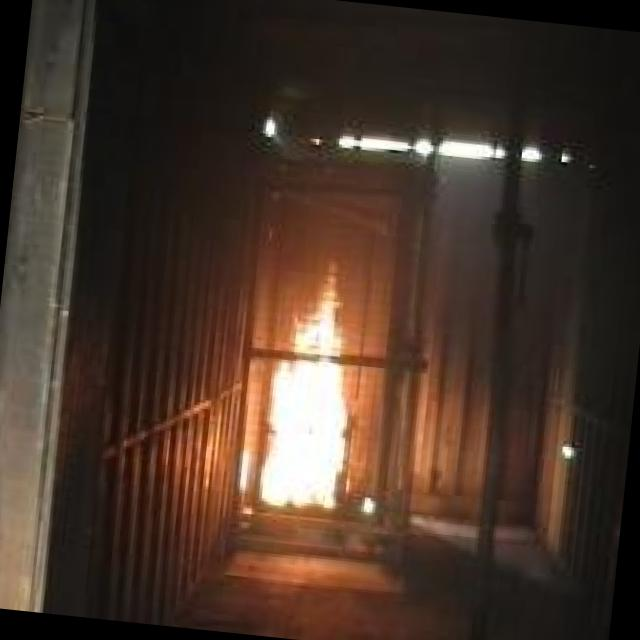fire: (239, 267, 375, 511)
